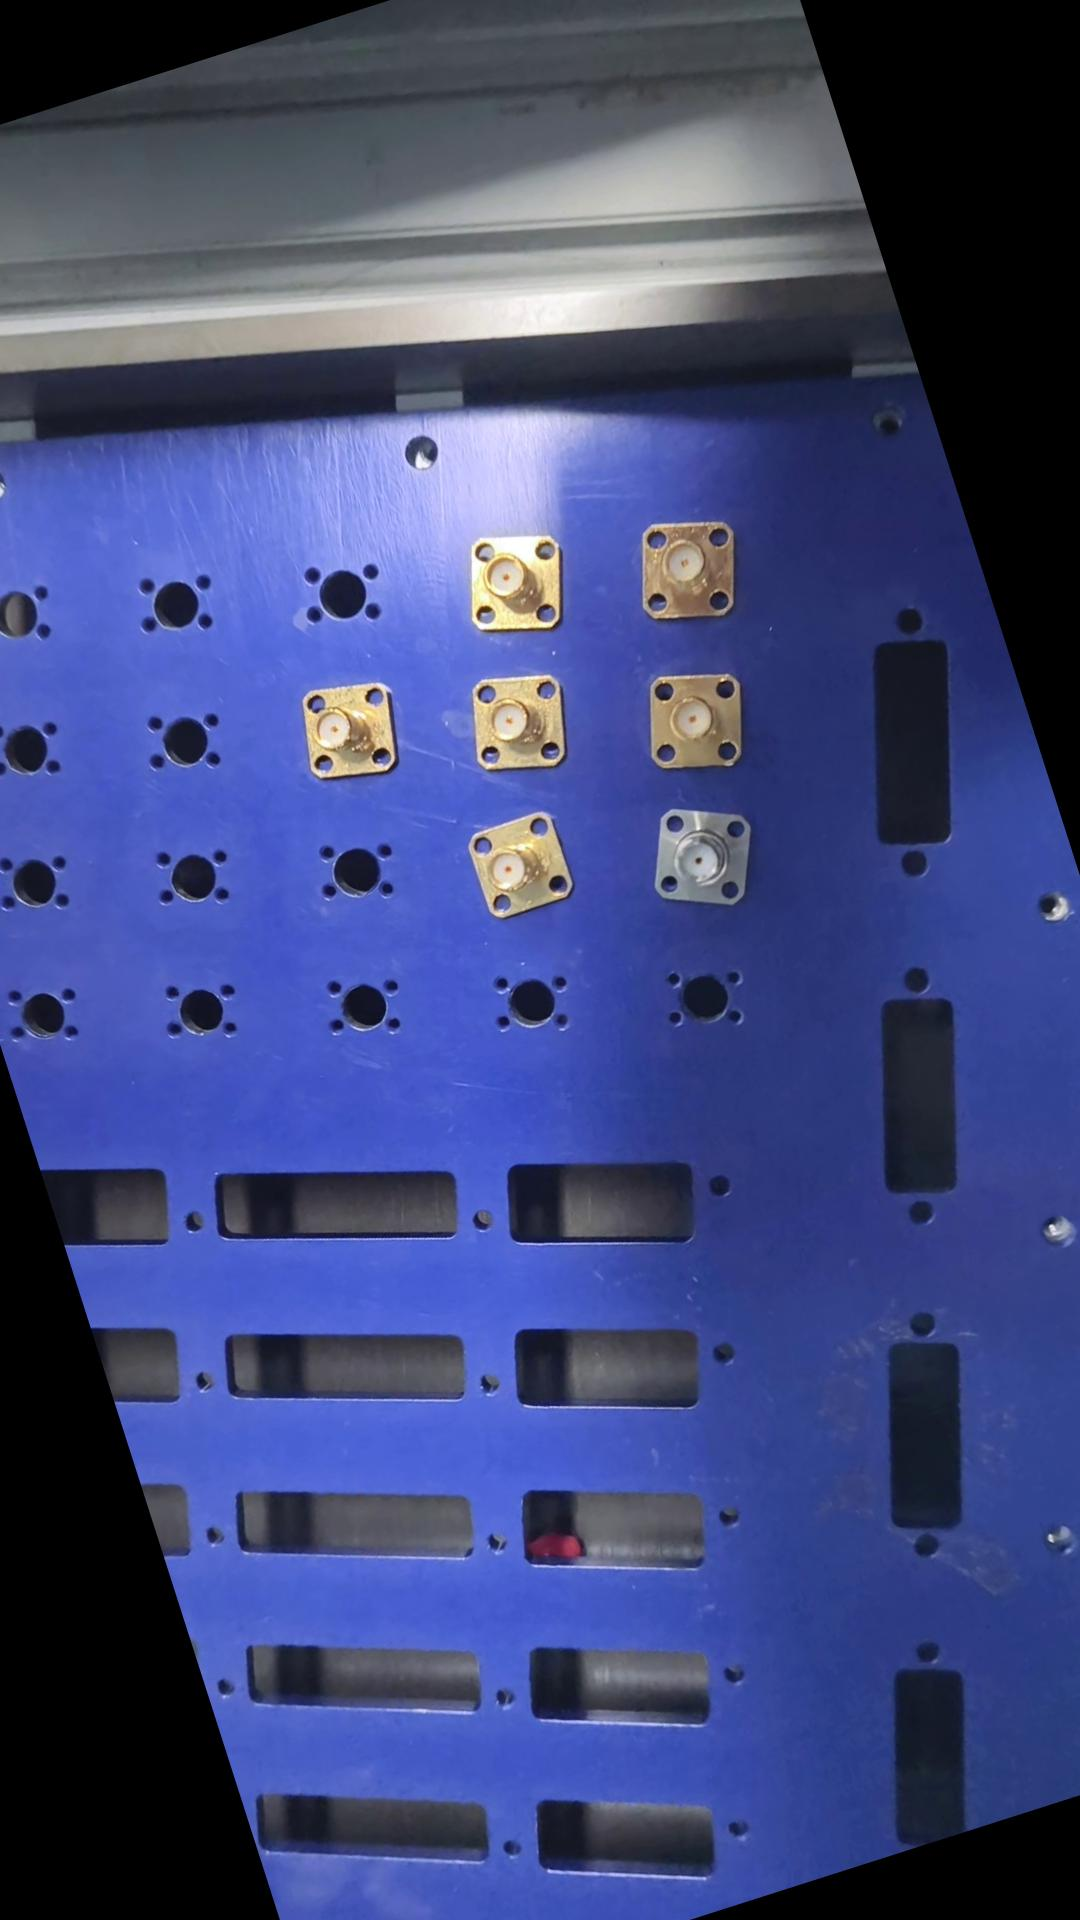SMA: (612, 502, 761, 642), (624, 789, 770, 926), (436, 514, 580, 650), (620, 655, 760, 789), (450, 800, 587, 934), (446, 661, 584, 789), (282, 667, 411, 800)
